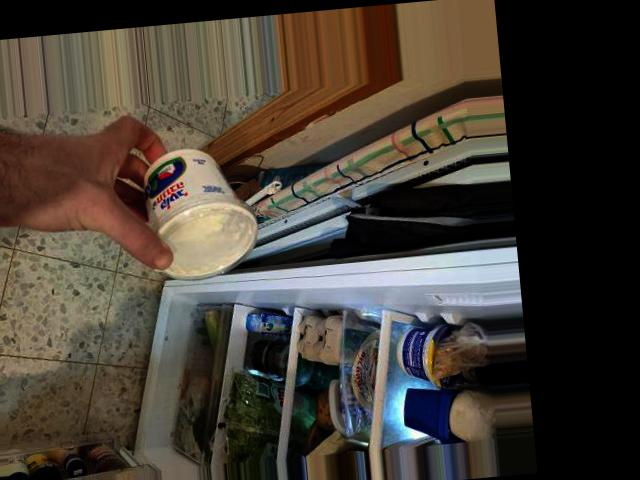cotage: (141, 156, 270, 266)
